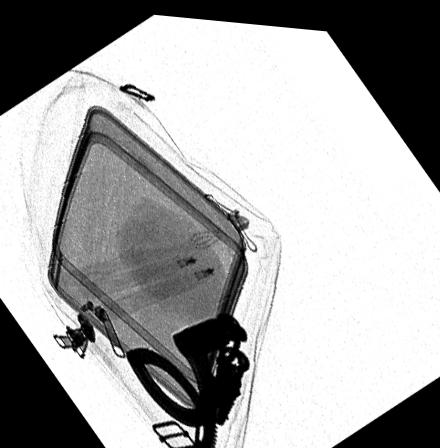HandCuffs: (125, 307, 249, 448)
